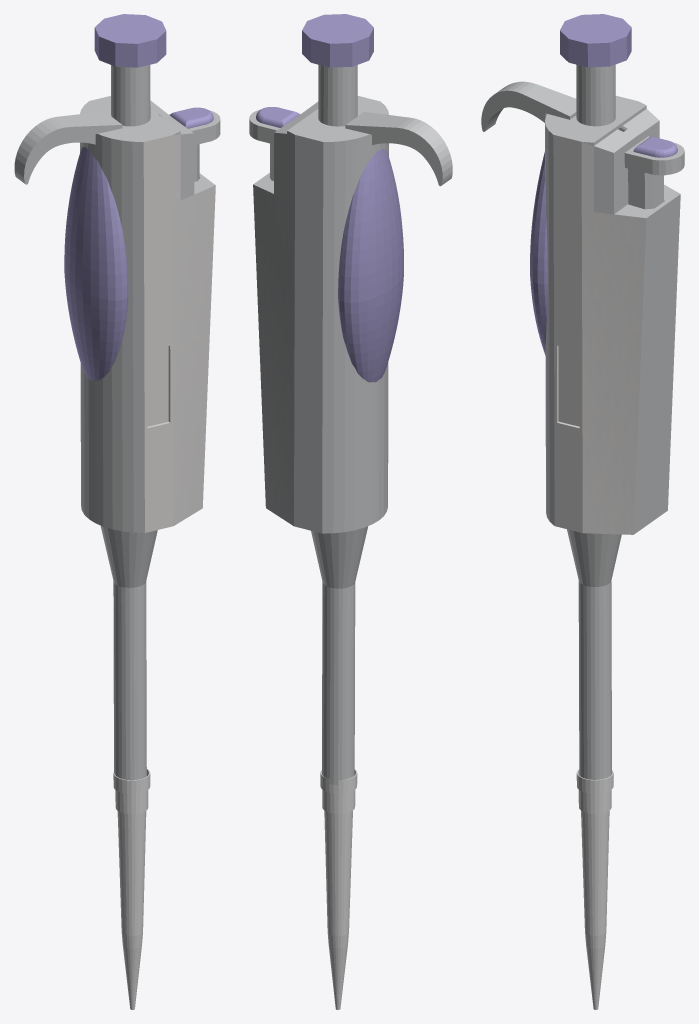
Rendered from accumax_pipette.dae.
3 views of the same model, side by side, from view 1: azimuth 30°, elevation 25°; view 2: azimuth 150°, elevation 25°; view 3: azimuth 330°, elevation 25° (orthographic).
Visible parts, largest first — view 1: Mesh07; view 2: Mesh07; view 3: Mesh07.
Boxes of the visible parts, bbox=[...] form: Mesh07: bbox=[14, 14, 220, 1009]; Mesh07: bbox=[249, 14, 452, 1009]; Mesh07: bbox=[481, 14, 684, 1009].
Size of the model in its own units: 0.07 by 0.0345 by 0.3328.
